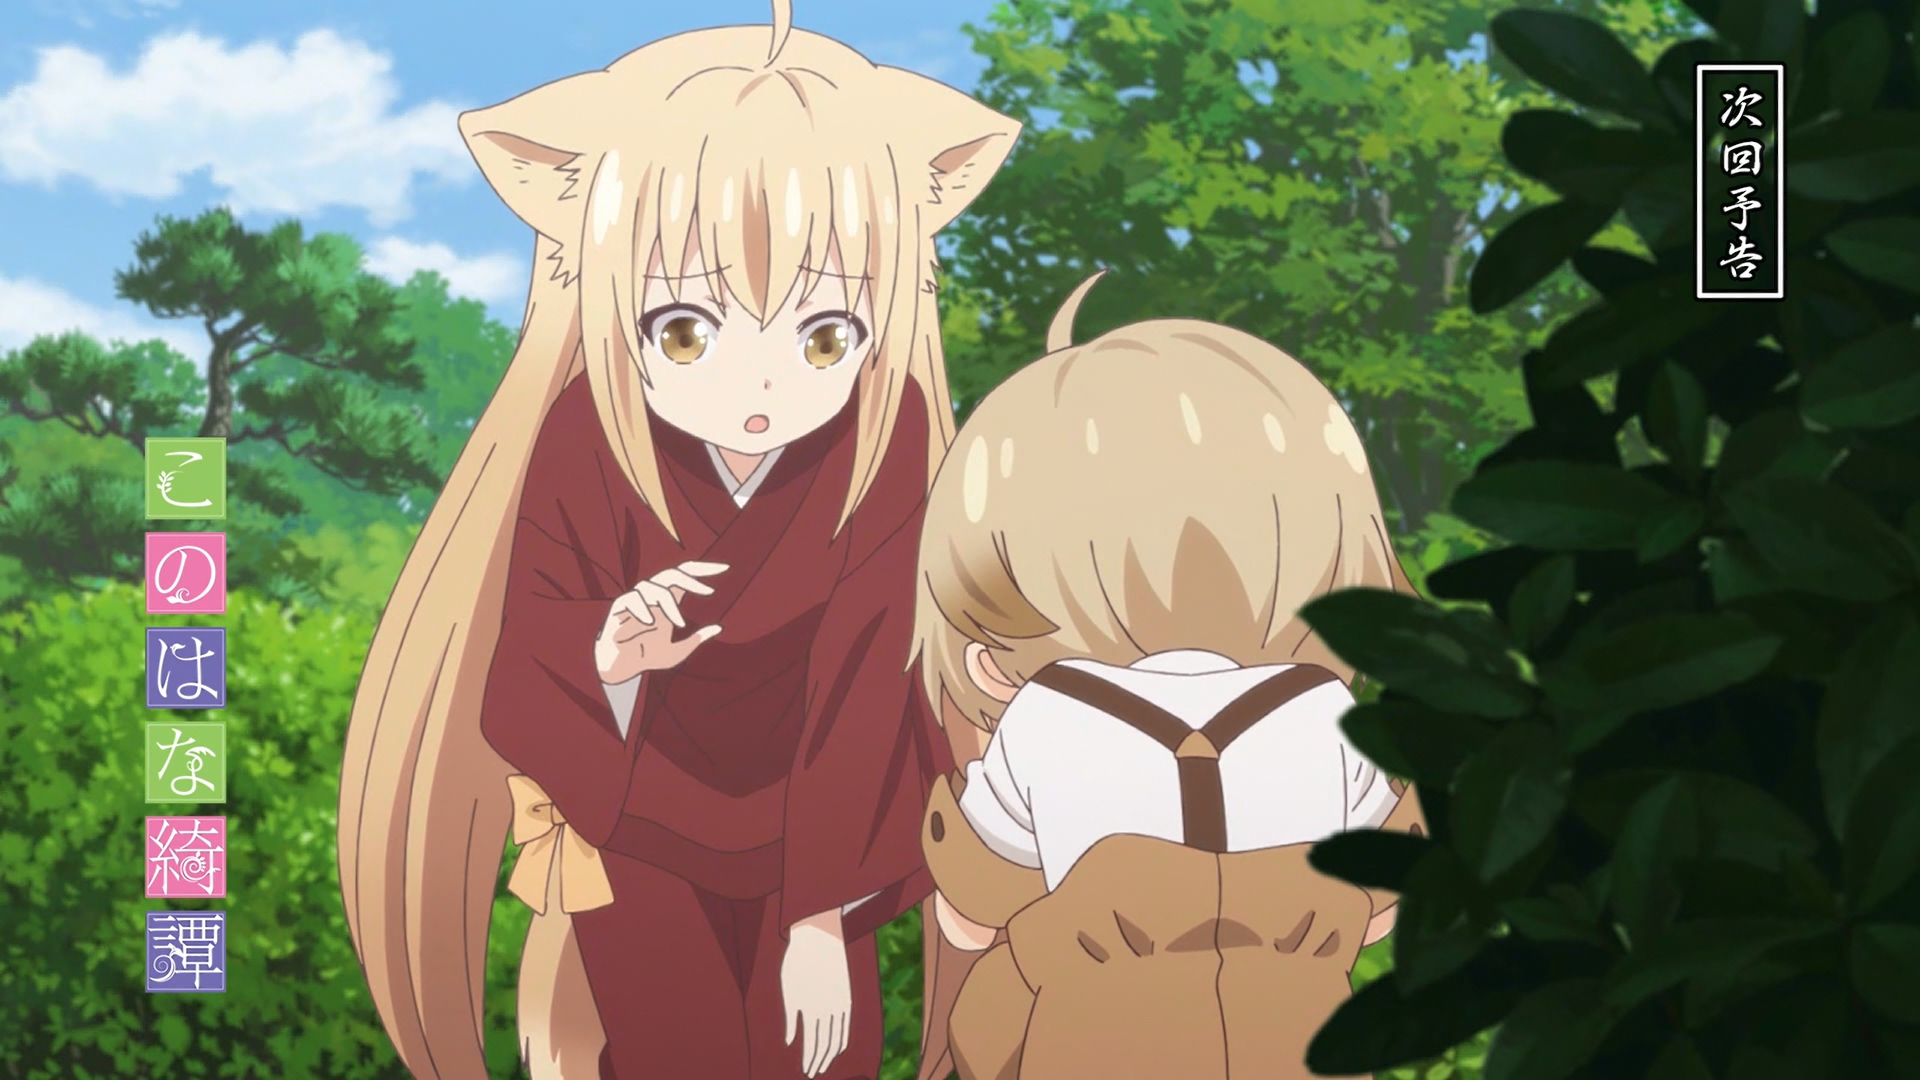其他: (905, 272, 1418, 1080)
柚: (338, 1, 1021, 1080)
